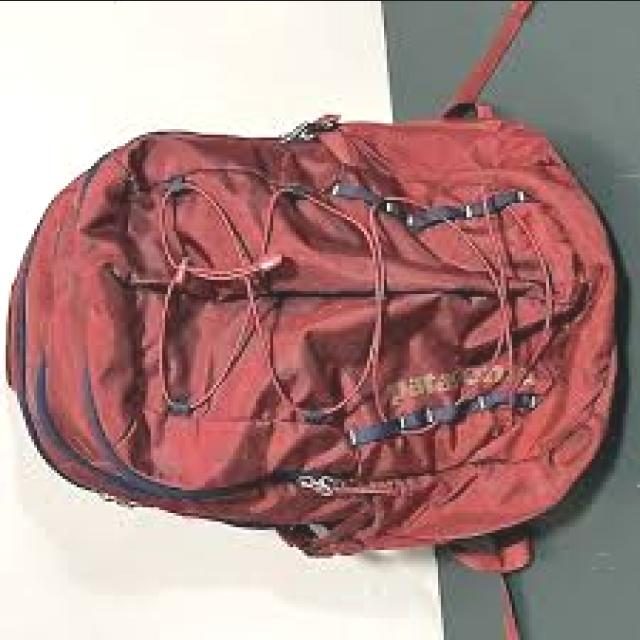backpack: (1, 78, 640, 587)
